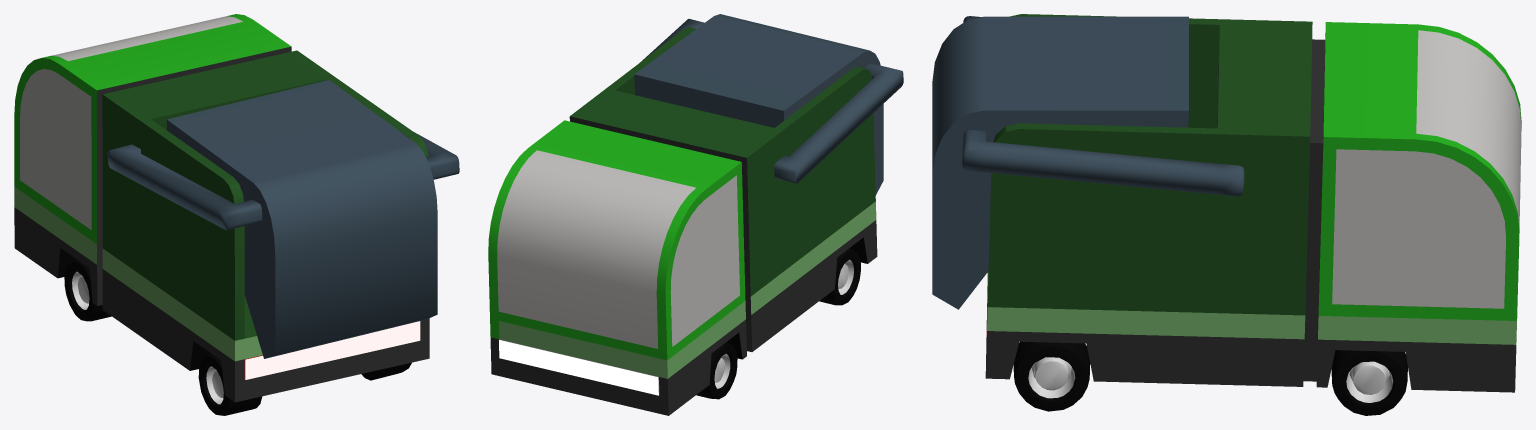
Rendered from SM_GarbageTruck_Green.glb.
3 renders of one model, left to right at view 1: azimuth 30°, elevation 25°; view 2: azimuth 150°, elevation 25°; view 3: azimuth 270°, elevation 25°, orthographic. The views are drawn at different scales.
Visible parts, largest first — view 1: BodyGreen, Rear, Lights, Wheels.Rear, Wheels.Front; view 2: BodyGreen, Rear, Lights, Wheels.Front, Wheels.Rear; view 3: BodyGreen, Rear, Wheels.Rear, Wheels.Front.
Part boxes in pixels (<box>): BodyGreen: <box>14,14,429,402</box>; Rear: <box>107,80,459,358</box>; Lights: <box>245,321,420,379</box>; Wheels.Rear: <box>198,353,411,415</box>; Wheels.Front: <box>64,259,111,321</box>; BodyGreen: <box>488,27,877,415</box>; Rear: <box>634,14,903,195</box>; Lights: <box>499,340,658,395</box>; Wheels.Front: <box>696,342,737,399</box>; Wheels.Rear: <box>819,248,860,305</box>; BodyGreen: <box>985,14,1521,392</box>; Rear: <box>932,16,1244,309</box>; Wheels.Rear: <box>1013,341,1090,411</box>; Wheels.Front: <box>1331,350,1407,415</box>.
Bounding box in the file's own units: 2.41 × 2.51 × 4.45.
